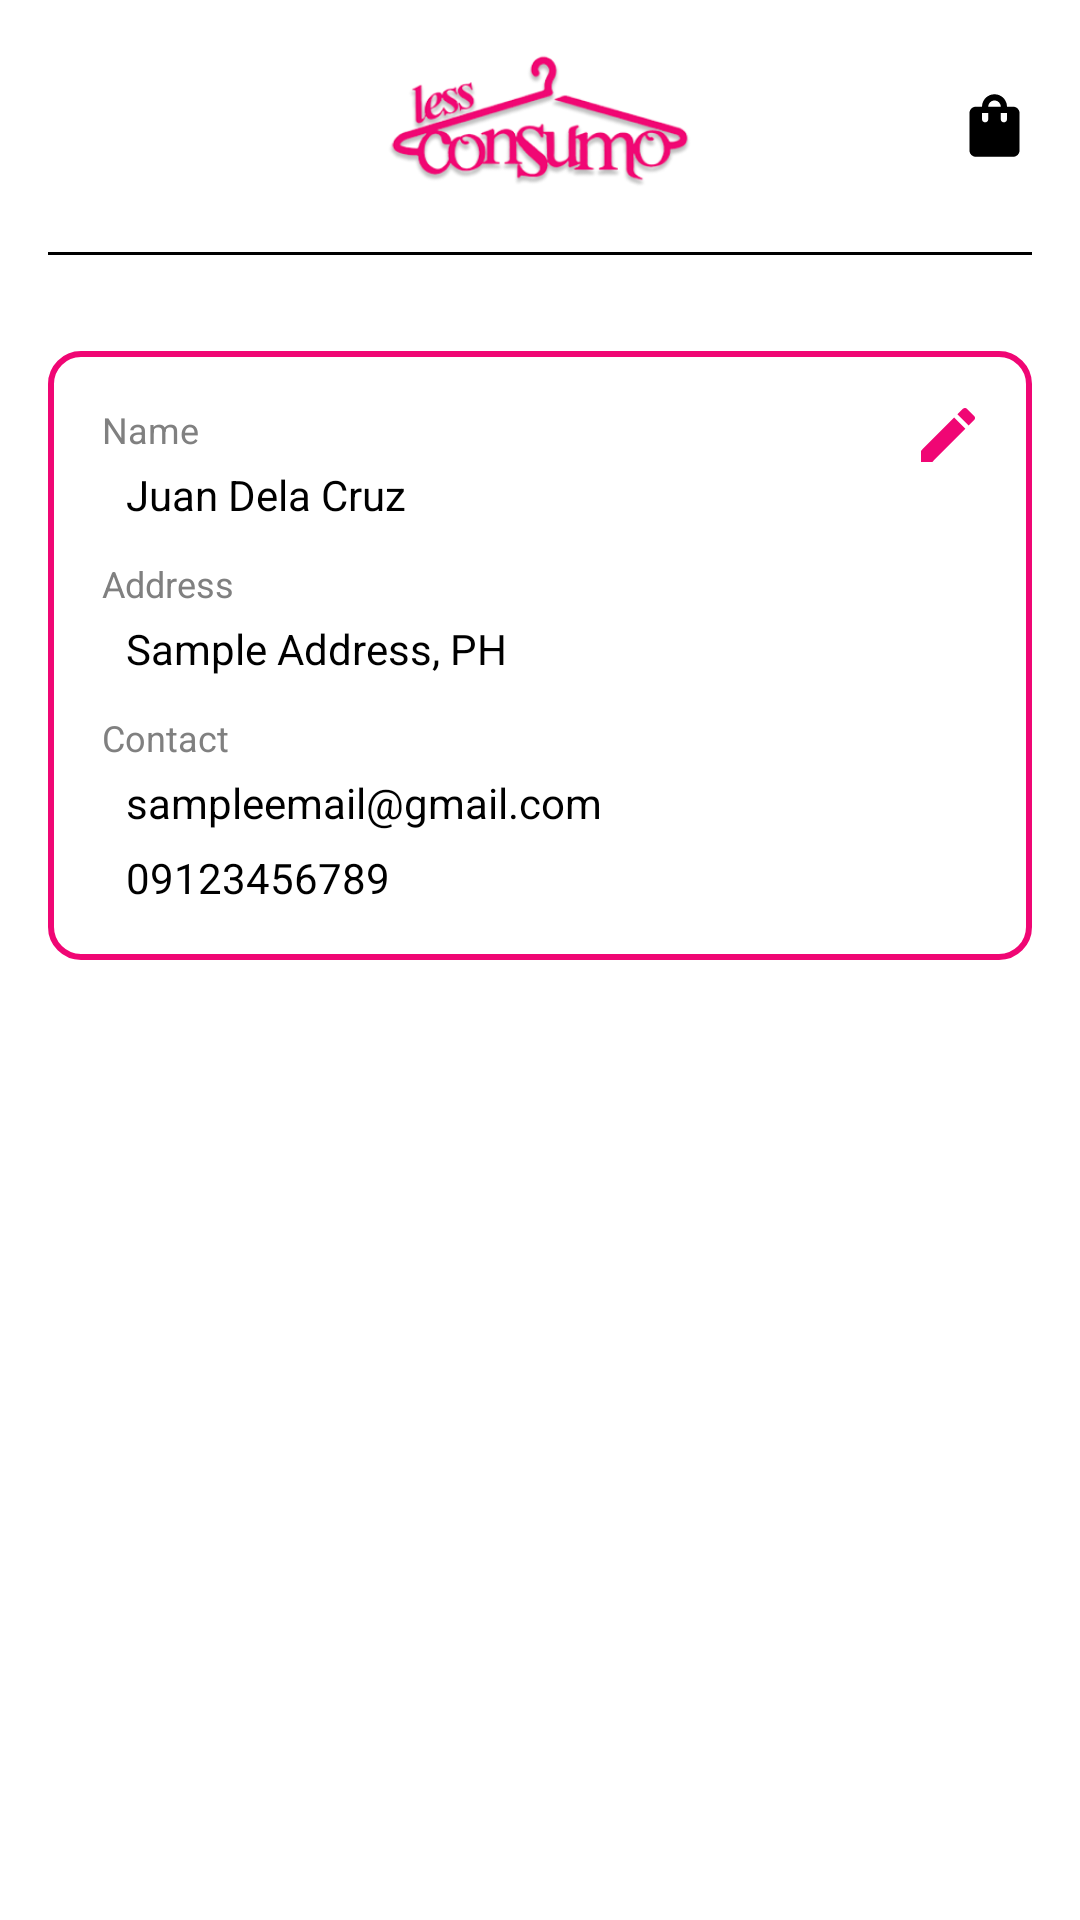

Screen size 1080*1920. Icon name, then its box in pixels as bbox=[x1, y1, x2, y2]:
edit: bbox=[921, 408, 975, 462]
home cart: bbox=[969, 94, 1020, 157]
